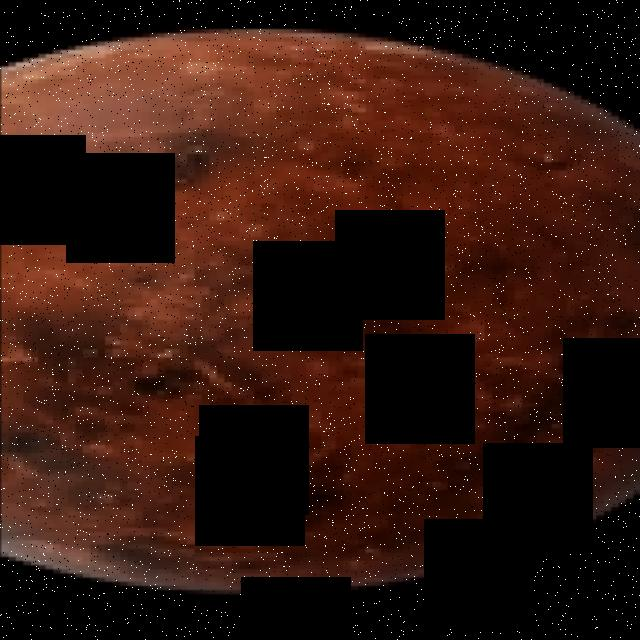Venus: (0, 29, 640, 594)
